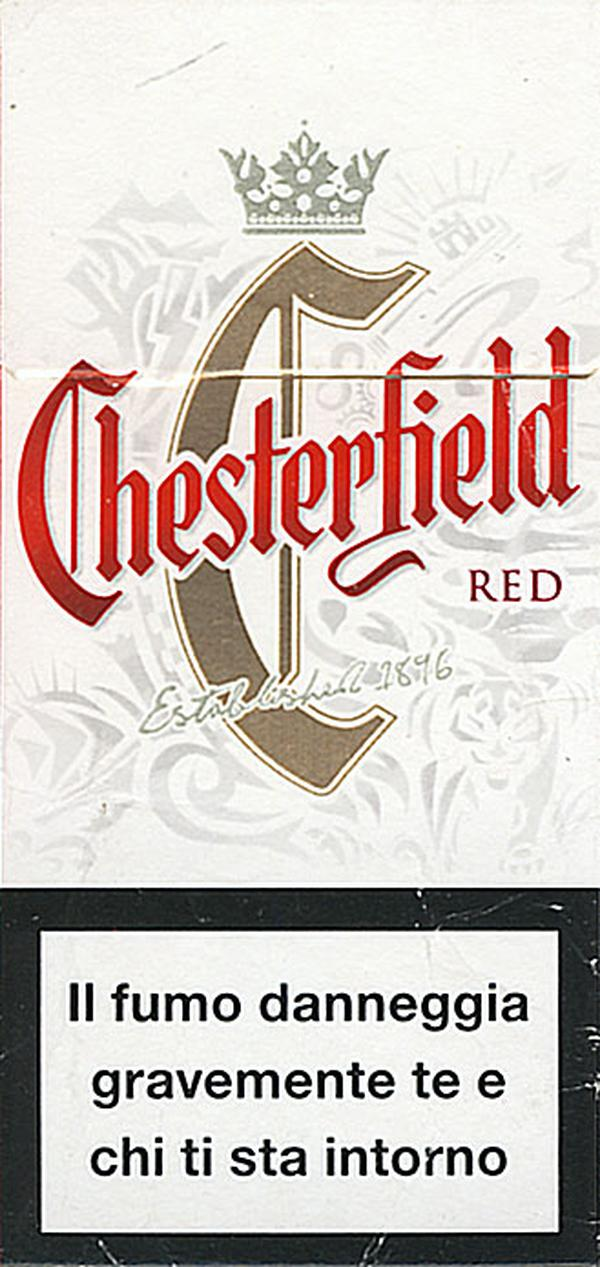chesterfield_red: (1, 9, 600, 1262)
